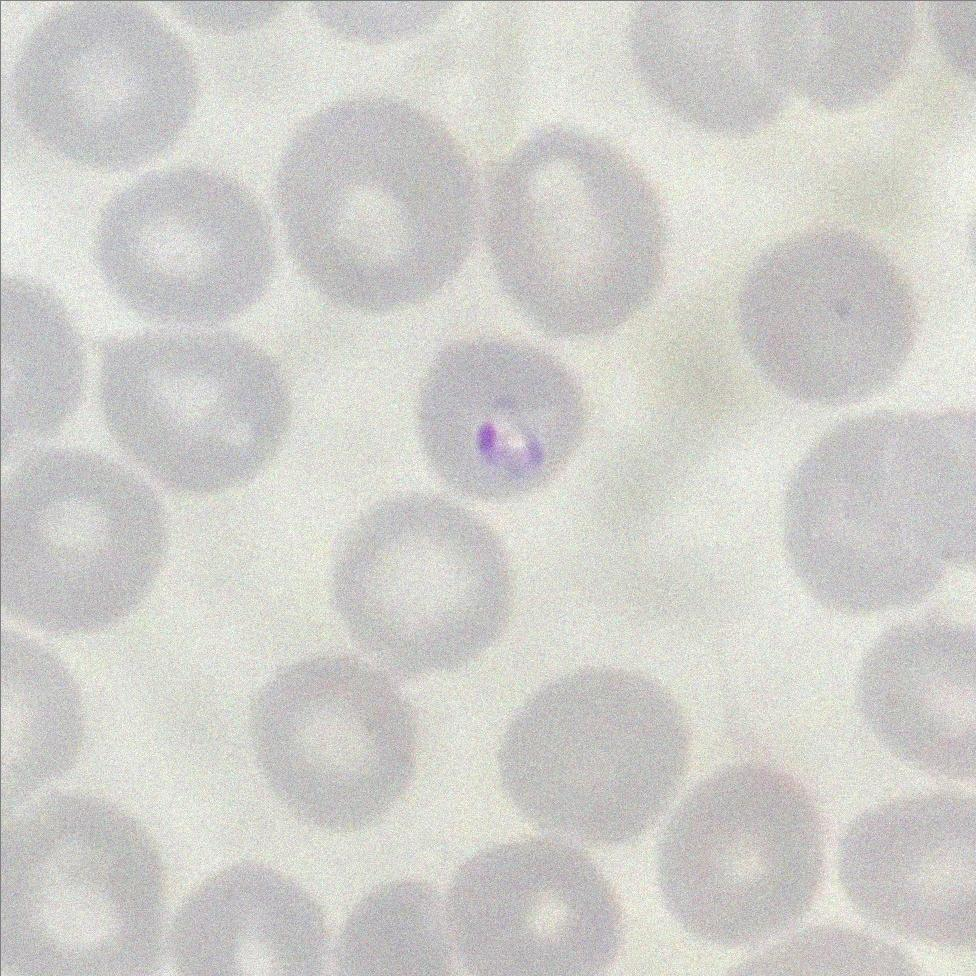Infected: (416, 340, 588, 500)
Uninfected: (275, 97, 484, 313), (483, 126, 661, 339), (786, 408, 970, 613), (498, 665, 691, 846), (99, 326, 292, 493), (332, 498, 512, 676), (737, 227, 920, 402), (250, 656, 424, 834), (651, 761, 825, 939), (16, 3, 202, 166), (5, 449, 162, 634), (98, 166, 280, 323), (7, 792, 164, 969), (442, 835, 625, 973), (634, 3, 819, 130), (838, 785, 973, 941), (857, 617, 976, 780), (749, 2, 922, 111), (171, 860, 332, 975), (343, 874, 468, 974)
